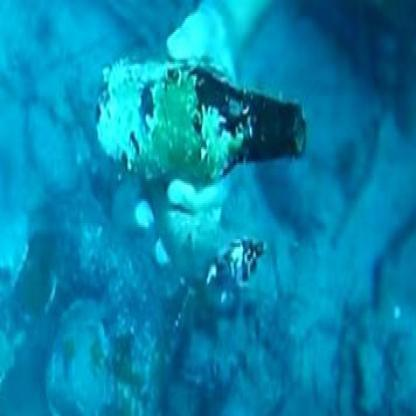gbottle: (86, 54, 322, 180)
